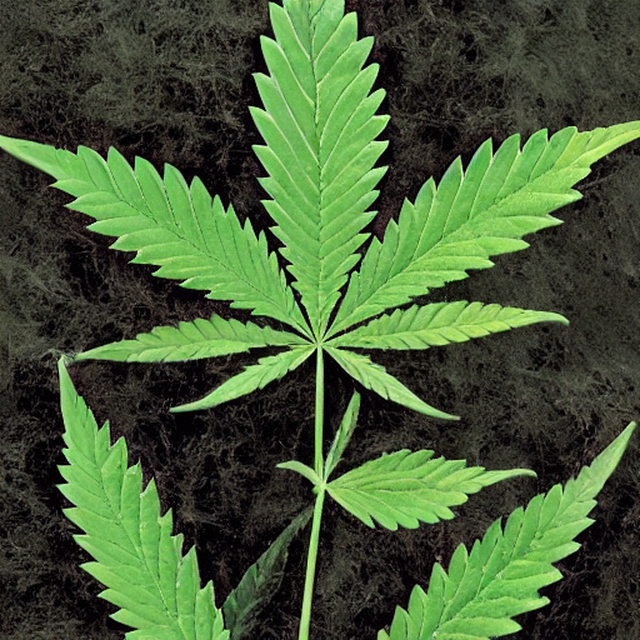Marijuana Plant: (0, 0, 541, 640)
